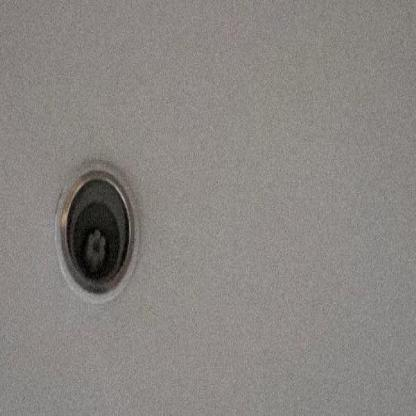light_off: (43, 122, 147, 310)
